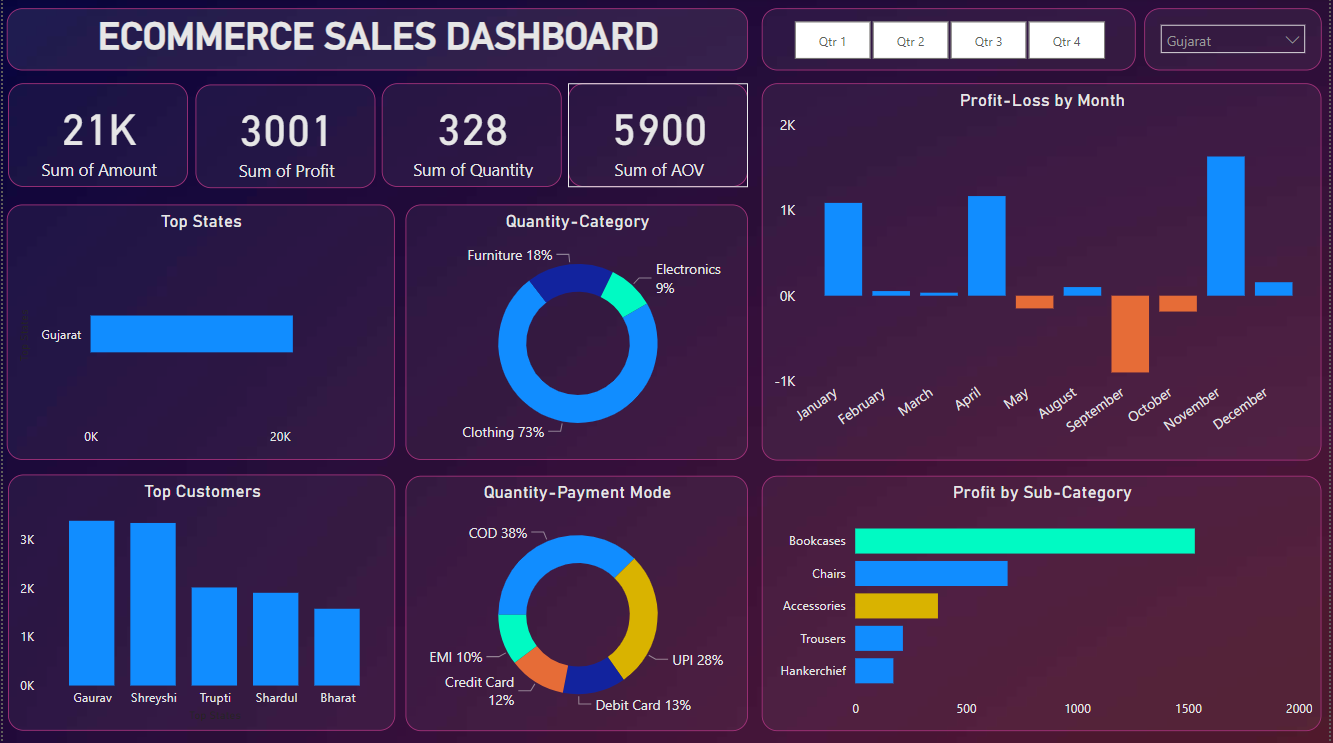

The dashboard page shown, as its layout file describes it:
{"tool":"powerbi","page":{"name":"Page 1","canvas":[1280,720],"ordinal":0},"visuals":[{"type":"textbox","title":"ECOMMERCE SALES DASHBOARD","box":[3.6,10.9,715.2,60.3],"z":0},{"type":"columnChart","title":"Profit-Loss by Month","fields":{"Category":["Orders.Order Date.Variation.Date Hierarchy.Month"],"Y":["Details.Profit"]},"box":[732.1,83.2,540.3,364.2],"z":1000},{"type":"barChart","title":"Profit by Sub-Category","fields":{"Category":["Details.Sub-Category"],"Y":["Details.Profit"]},"box":[732.1,462,540.2,246.8],"z":2000},{"type":"donutChart","title":"Quantity-Category","fields":{"Category":["Details.Category"],"Y":["Details.Quantity"]},"box":[388,200.2,330.4,246.8],"z":3000},{"type":"donutChart","title":"Quantity-Payment Mode","fields":{"Y":["Details.Quantity"],"Category":["Details.PaymentMode"]},"box":[388,462,330.4,246.8],"z":4000},{"type":"barChart","title":"Top States","fields":{"Category":["Orders.State"],"Y":["Details.Amount"]},"box":[4.1,200.2,374.3,246.8],"z":5000},{"type":"columnChart","title":"Top Customers","fields":{"Category":["Orders.CustomerName"],"Y":["Details.Amount"]},"box":[4.8,460.7,373.9,247.2],"z":6000},{"type":"card","fields":{"Values":["Details.Amount"]},"box":[4.8,83.2,173.7,100.1],"z":7000},{"type":"card","fields":{"Values":["Details.Profit"]},"box":[185.7,84.4,173.7,100.1],"z":8000},{"type":"card","fields":{"Values":["Details.Quantity"]},"box":[365.4,83.2,173.7,100.1],"z":9000},{"type":"card","fields":{"Values":["Details.AOV"]},"box":[545.1,83.2,173.7,100.1],"z":10000},{"type":"slicer","fields":{"Values":["Orders.Order Date.Variation.Date Hierarchy.Quarter"]},"box":[732.1,10.9,360.6,60.3],"z":10001},{"type":"slicer","fields":{"Values":["Orders.State"]},"box":[1101.1,10.9,171.3,60.3],"z":10002}]}

Visuals, with their boxes in screenshot pixels (x1, y1, x2, y2), scaled from the page's 1280x720 canvas onto the 1333x743 screenshot:
"ECOMMERCE SALES DASHBOARD" textbox: crop(4, 11, 749, 73)
"Profit-Loss by Month" columnChart: crop(762, 86, 1325, 462)
"Profit by Sub-Category" barChart: crop(762, 477, 1325, 731)
"Quantity-Category" donutChart: crop(404, 207, 748, 461)
"Quantity-Payment Mode" donutChart: crop(404, 477, 748, 731)
"Top States" barChart: crop(4, 207, 394, 461)
"Top Customers" columnChart: crop(5, 475, 394, 731)
card - Details.Amount: crop(5, 86, 186, 189)
card - Details.Profit: crop(193, 87, 374, 190)
card - Details.Quantity: crop(381, 86, 561, 189)
card - Details.AOV: crop(568, 86, 749, 189)
slicer - Orders.Order Date.Variation.Date Hierarchy.Quarter: crop(762, 11, 1138, 73)
slicer - Orders.State: crop(1147, 11, 1325, 73)
